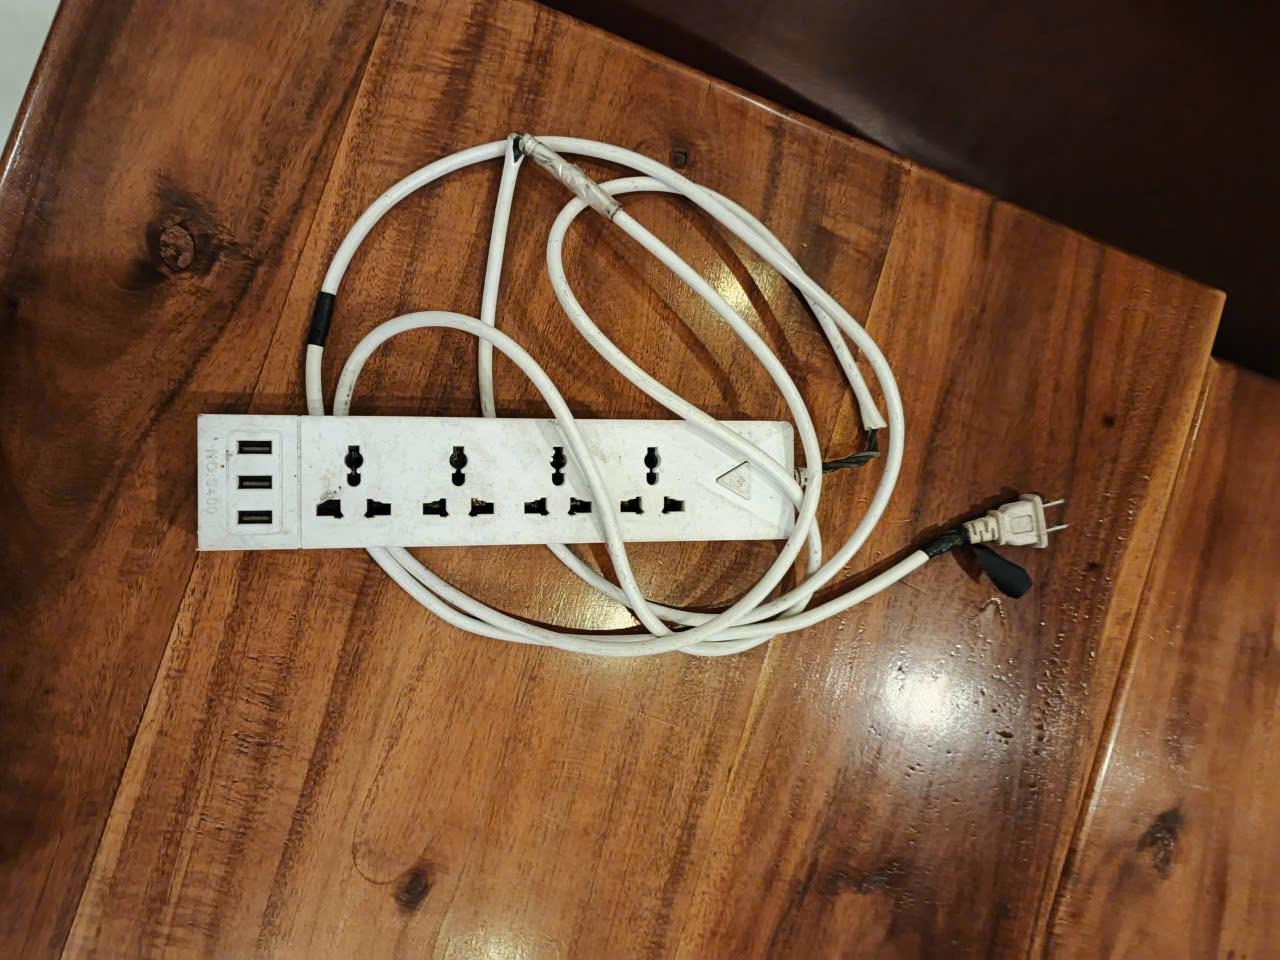Con lai: (198, 132, 1068, 659)
